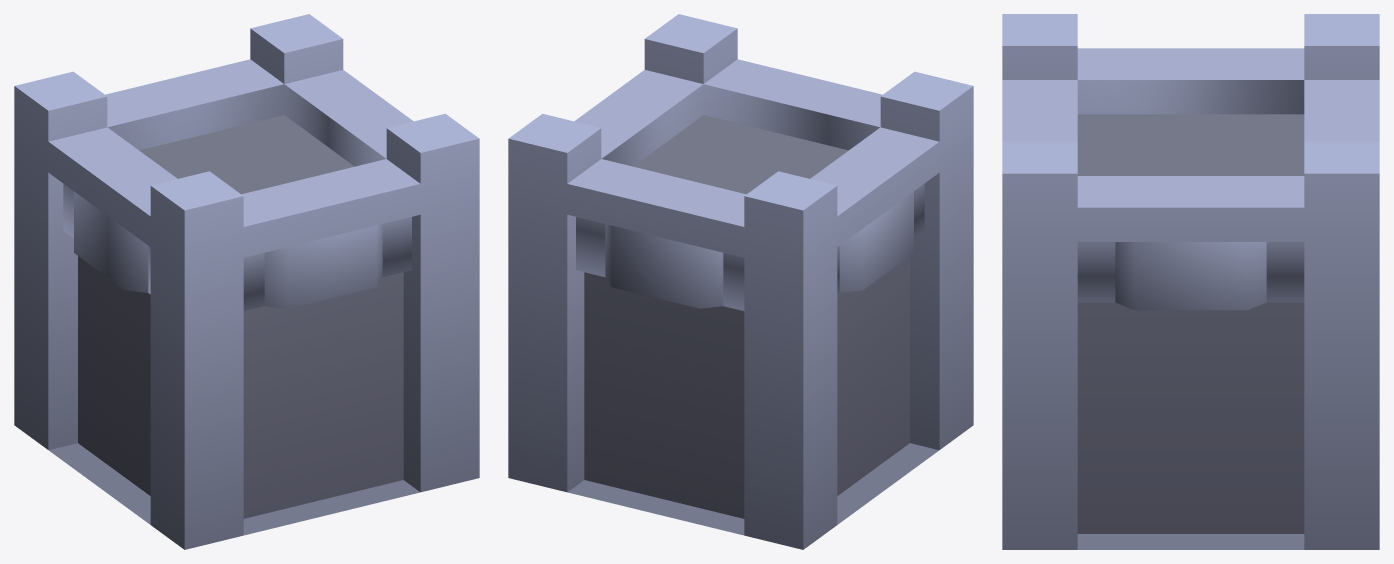
The model's file is wall.glb.
The picture shows the model from 3 angles, left to right: view 1: azimuth 30°, elevation 25°; view 2: azimuth 150°, elevation 25°; view 3: azimuth 270°, elevation 25°; orthographic projection. The views are drawn at different scales.
Visible parts, largest first — view 1: wall; view 2: wall; view 3: wall.
Boxes of the visible parts, <box> form: wall: <box>14,14,479,549</box>; wall: <box>508,14,973,549</box>; wall: <box>1002,14,1379,549</box>.
Bounding box in the file's own units: 1 × 1.1 × 1.
1 material, 1 textured.
